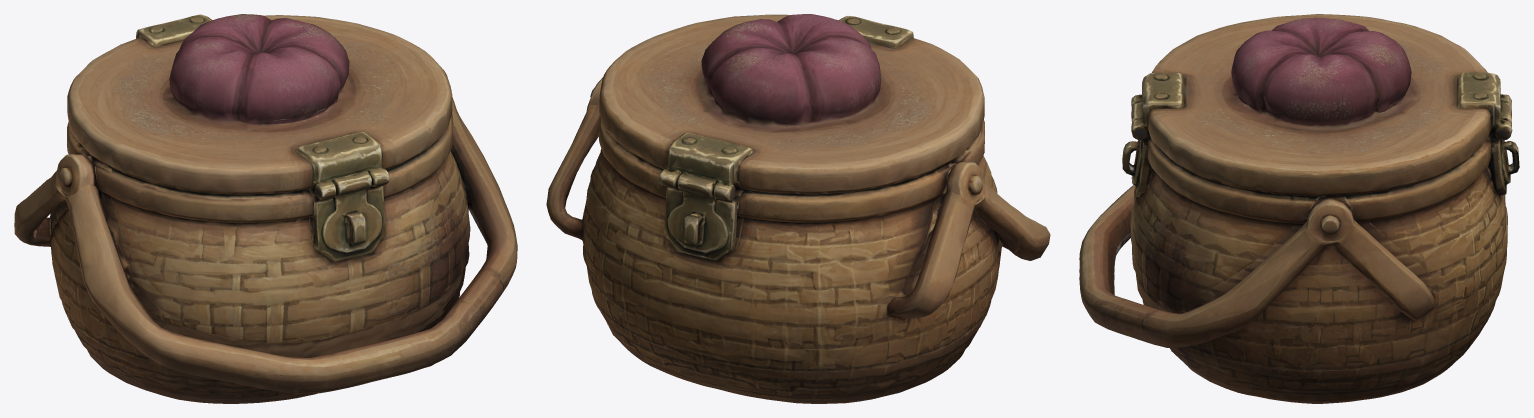
Rendered from Prop_SewingBasket.fbx.
3 views of the same model, side by side, from view 1: azimuth 30°, elevation 25°; view 2: azimuth 150°, elevation 25°; view 3: azimuth 270°, elevation 25° (orthographic). The views are drawn at different scales.
Visible parts, largest first — view 1: texture_mapping; view 2: texture_mapping; view 3: texture_mapping.
Part boxes in pixels (<box>): texture_mapping: <box>14,14,517,403</box>; texture_mapping: <box>546,14,1050,403</box>; texture_mapping: <box>1079,14,1519,403</box>.
Size of the model in its own units: 1 by 0.9503 by 0.7319.
1 material, 1 textured.
